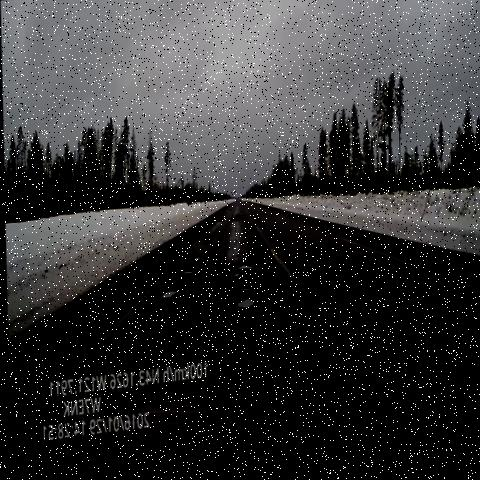pothole: (227, 258, 260, 294), (226, 294, 254, 326), (223, 215, 249, 235), (176, 270, 196, 291), (157, 287, 177, 306), (190, 256, 206, 272)
